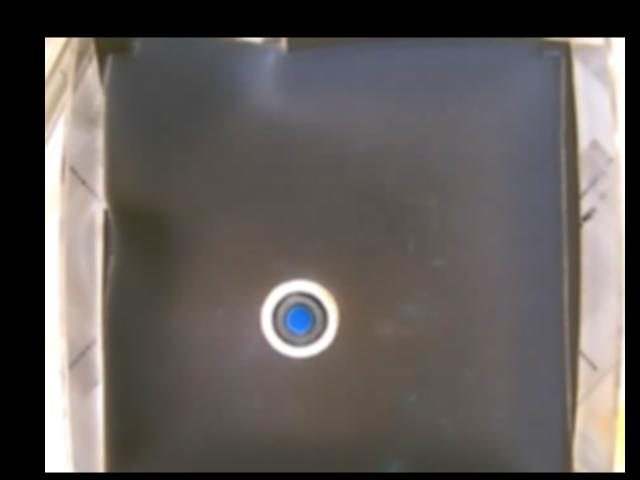Battery: (257, 276, 340, 361)
